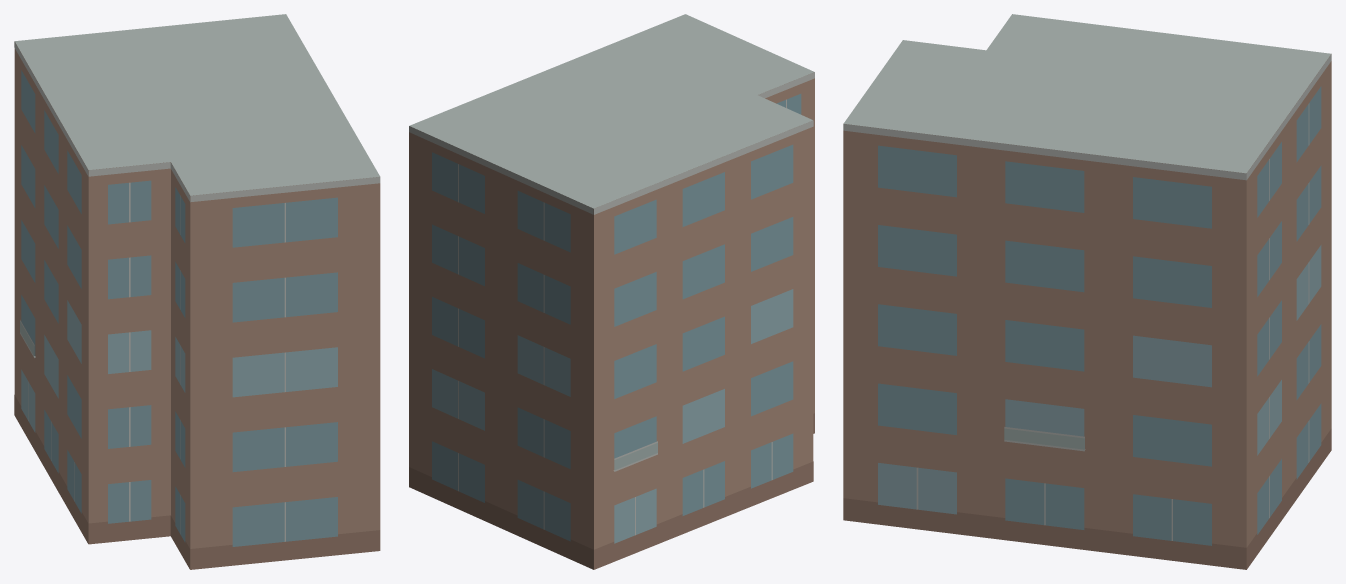
File: survey-upis-32880557.glb
The picture shows the model from 3 angles, left to right: view 1: azimuth 30°, elevation 25°; view 2: azimuth 150°, elevation 25°; view 3: azimuth 270°, elevation 25°; orthographic projection. The views are drawn at different scales.
Visible parts, largest first — view 1: survey-upis-32880557.tmp; view 2: survey-upis-32880557.tmp; view 3: survey-upis-32880557.tmp.
Boxes of the visible parts, <box> form: survey-upis-32880557.tmp: <box>14,14,380,569</box>; survey-upis-32880557.tmp: <box>409,14,814,569</box>; survey-upis-32880557.tmp: <box>843,14,1331,569</box>.
Size of the model in its own units: 12.08 by 14 by 15.63.
